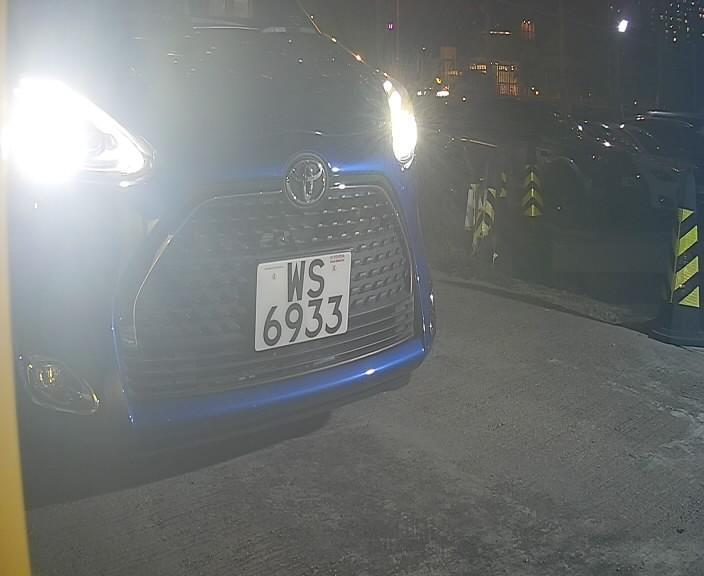privatecar: (2, 5, 469, 446)
